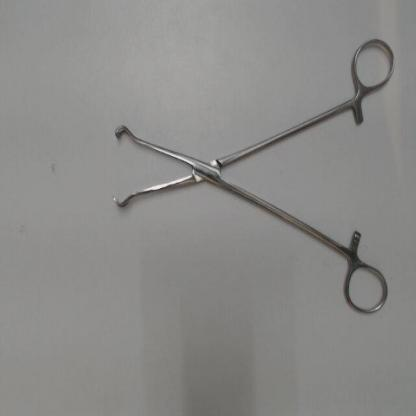8 Babcock Tissue Forceps: (108, 34, 400, 326)
